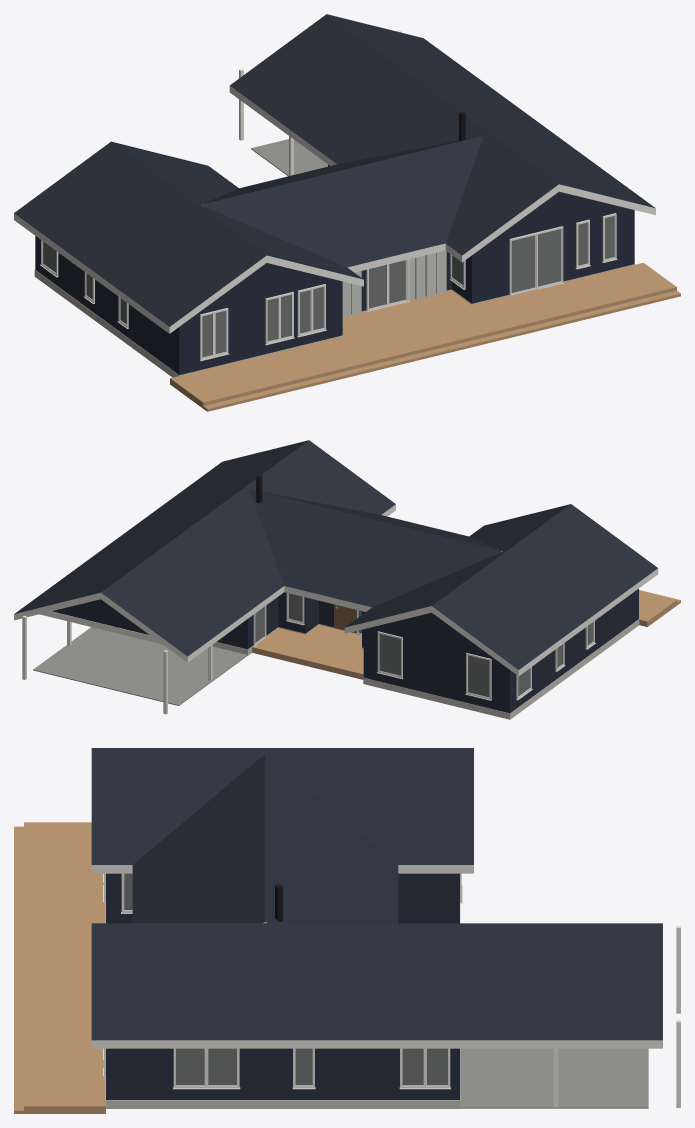
The model's file is teder187_c1_p1_m0.glb.
3 views of the same model, one above another, from view 1: azimuth 30°, elevation 25°; view 2: azimuth 150°, elevation 25°; view 3: azimuth 270°, elevation 25° (orthographic). The views are drawn at different scales.
Visible parts, largest first — view 1: roof, deck, wall, glass, curtain, fascia, frame, panel, plinth, paving; view 2: roof, wall, paving, fascia, deck, glass, curtain, plinth, frame, door; view 3: roof, deck, wall, paving, fascia, glass, curtain, plinth, frame.
Boxes of the visible parts, x1,y1,x2,y2 form: roof: (14,14,654,326); deck: (170,262,680,411); wall: (35,164,634,375); glass: (43,216,614,357); curtain: (43,216,613,356); fascia: (14,30,655,333); frame: (40,213,617,361); panel: (342,250,446,317); plinth: (34,264,635,377); paving: (251,139,327,176); roof: (15,440,657,669); wall: (52,588,638,713); paving: (33,627,247,705); fascia: (14,504,658,714); deck: (252,590,680,679); glass: (255,593,593,697); curtain: (255,593,592,696); plinth: (212,619,639,719); frame: (253,593,595,700); door: (334,604,355,632); roof: (91,748,662,1040); deck: (14,822,105,1113); wall: (106,873,459,1099); paving: (460,1048,648,1108); fascia: (91,865,680,1107); glass: (124,873,447,1085); curtain: (124,873,447,1084); plinth: (105,902,460,1108); frame: (103,873,462,1089).
Bounding box in the file's own units: 21.93 × 5.66 × 21.19.
14 materials, 5 textured.
